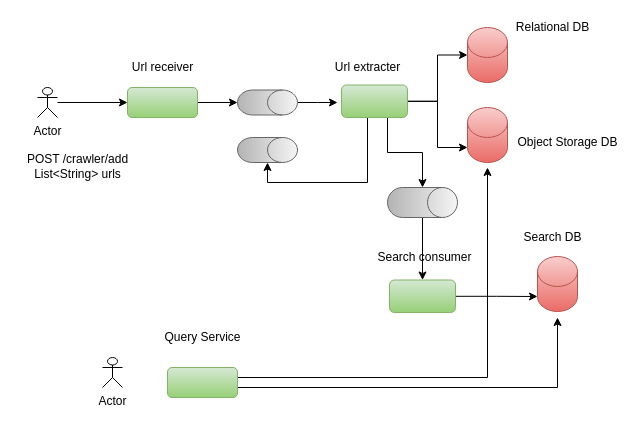
Some shapes in this 644 by 425 pixel diagram are drawn without their labels. The shapes that lost their labels are listed below. From the top down, each one's centre as x and y in pixels, then its label:
the point at 267,102: P1
the point at 267,149: P2
